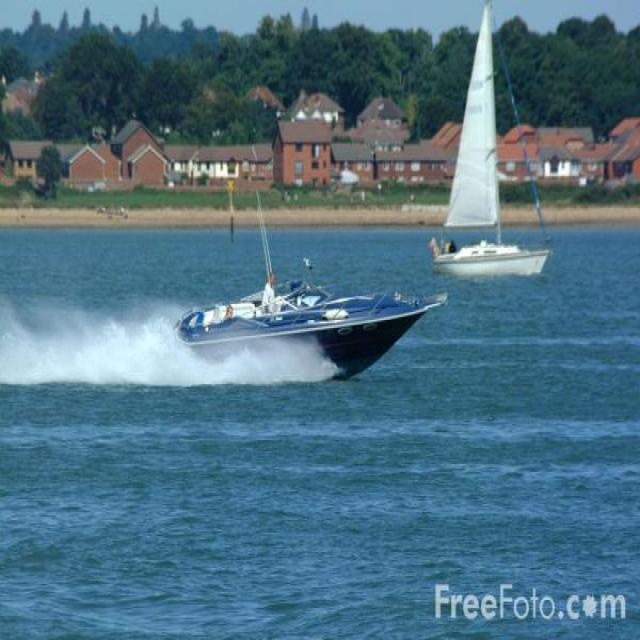Ship: (429, 1, 552, 280)
